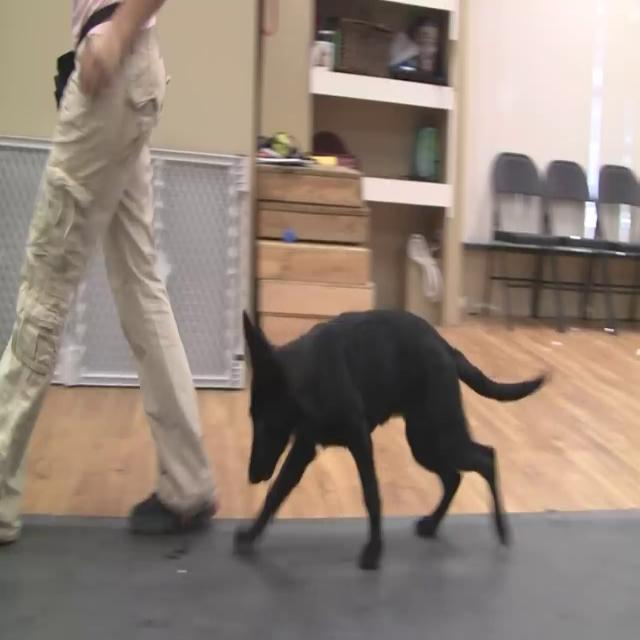Unleashed_Dog: (120, 308, 552, 568)
